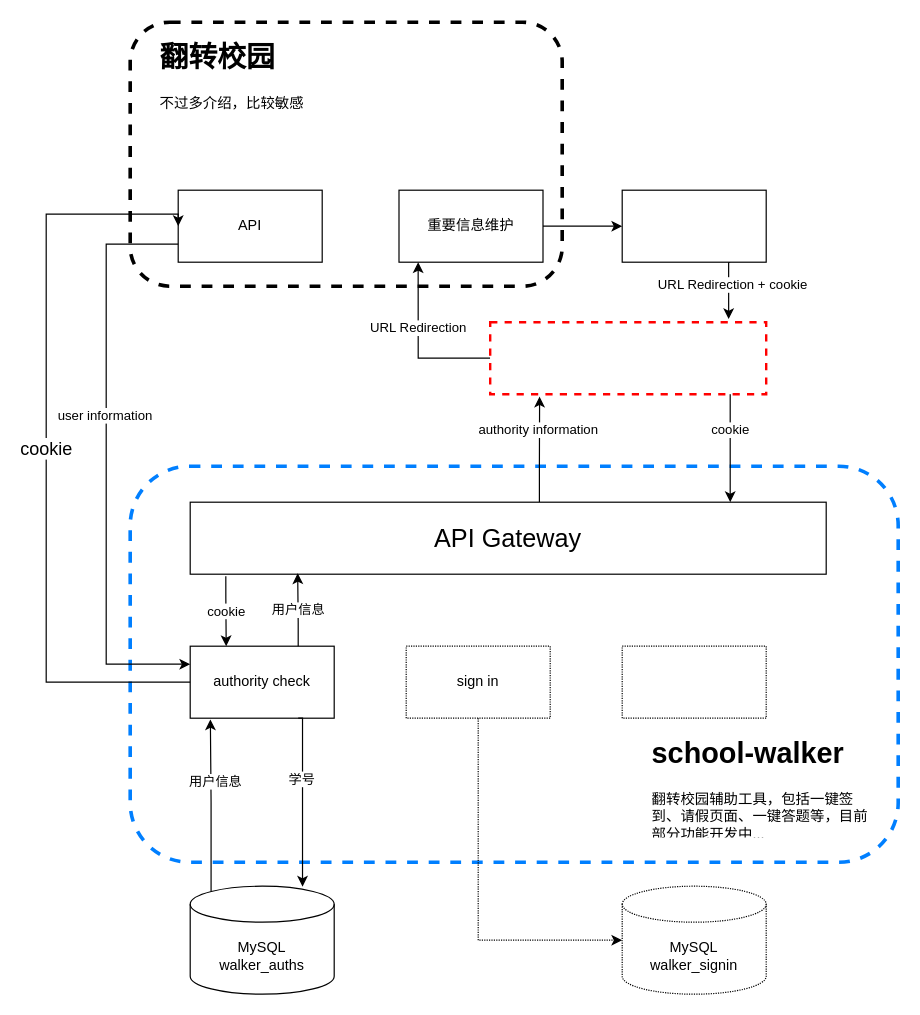
The diagram is 920 pixels wide and 1015 high, and some of its shapes have lost their labels. The centre of each missing label's shape, as x and y in pixels:
"answer" belongs at point 693,681.
"View Server" belongs at point 627,357.
"入口js" belongs at point 693,225.
